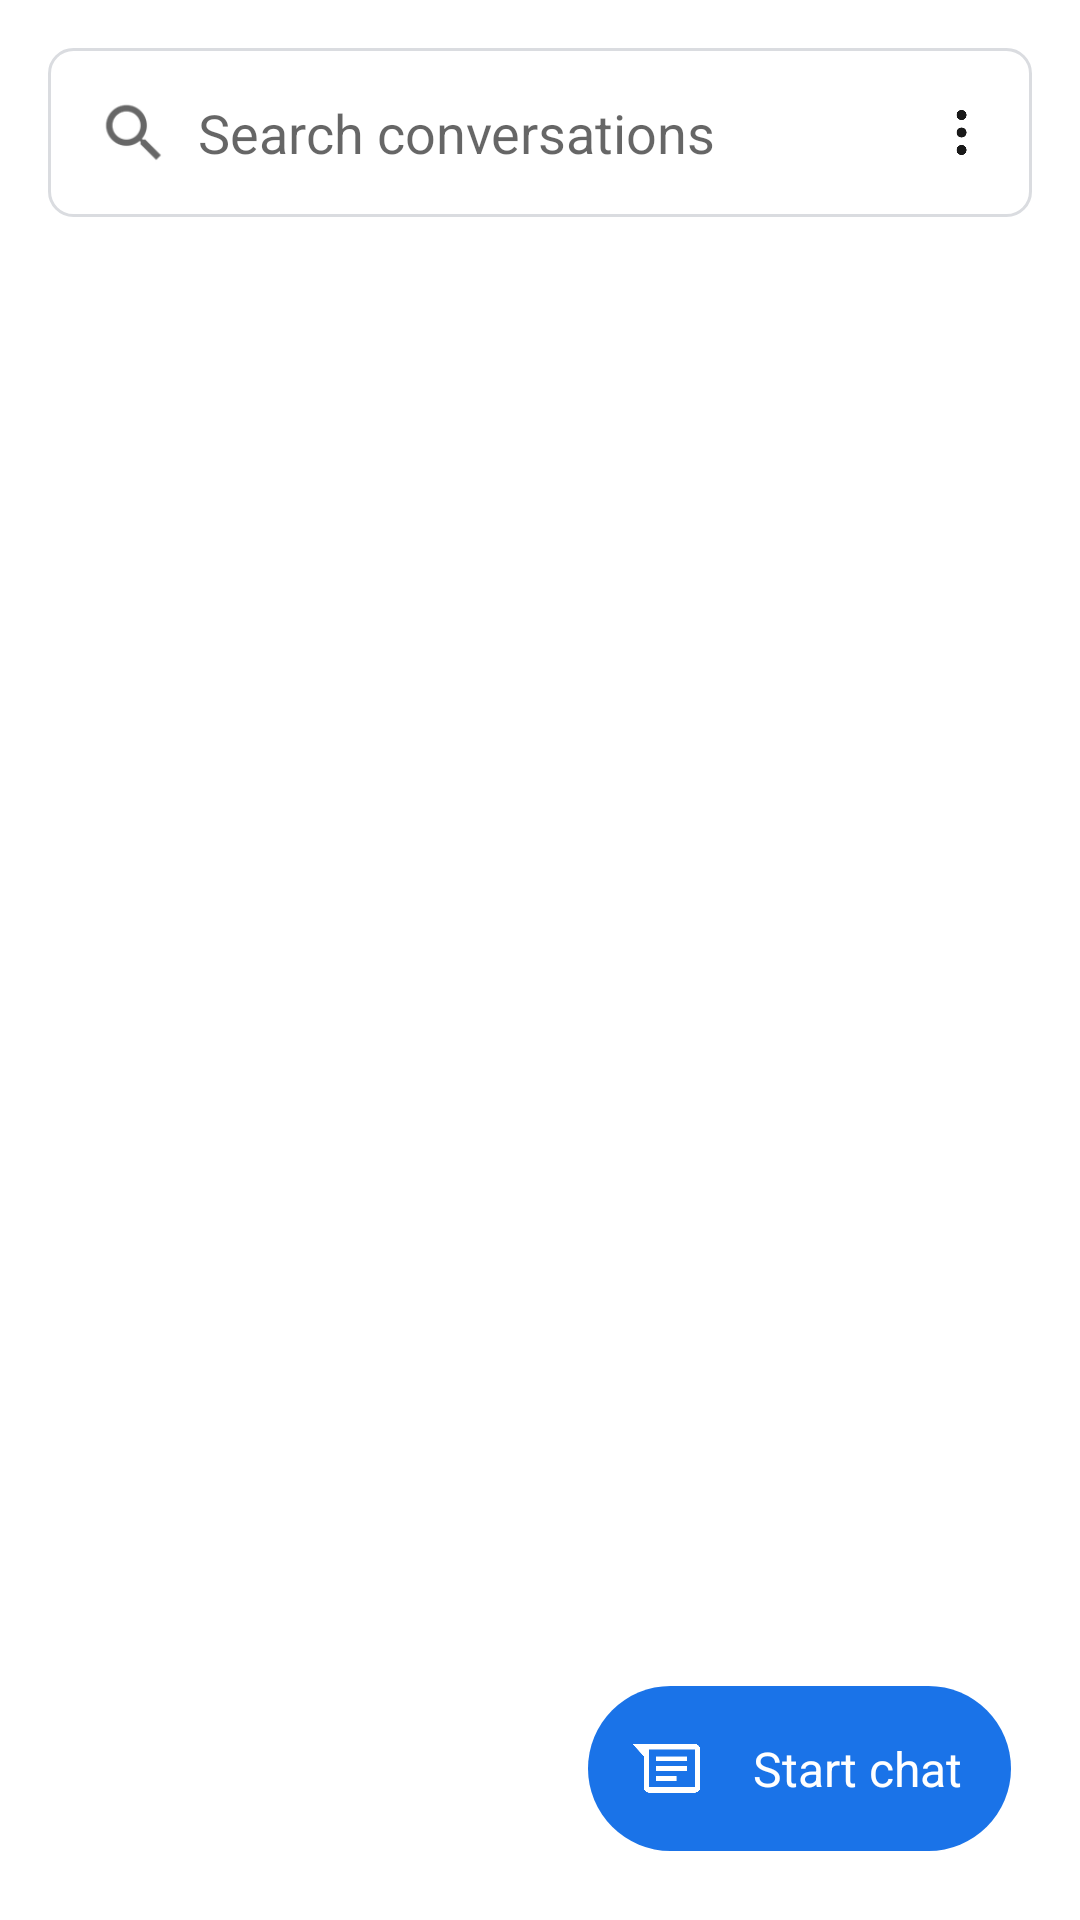

Point at icon controls on the screen. Image size 1080px×1920px, points as (x,y).
message: (670,1768)
options full: (961,132)
